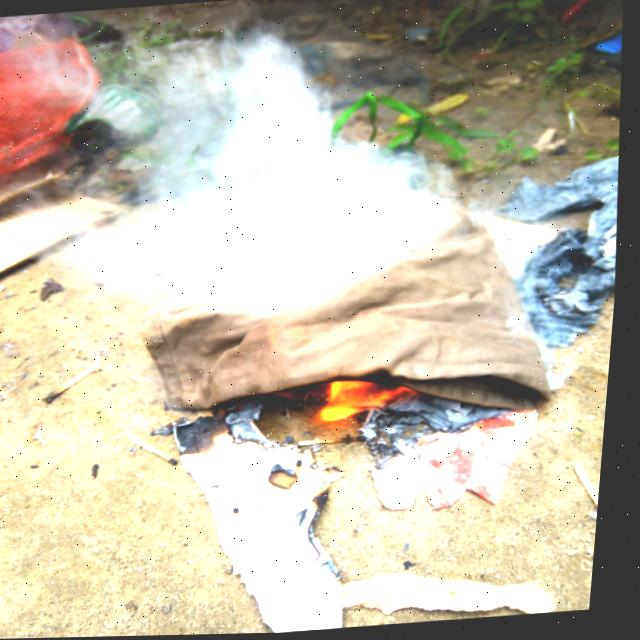Fire: (320, 373, 422, 425)
Smoke: (70, 17, 451, 325)
